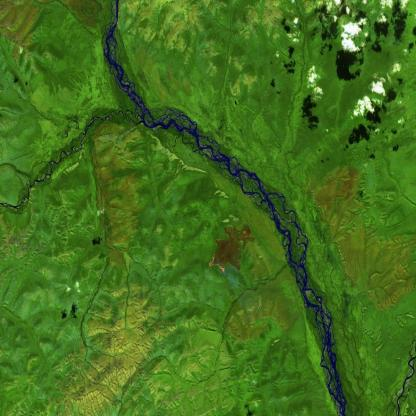fire: (206, 246, 228, 276)
